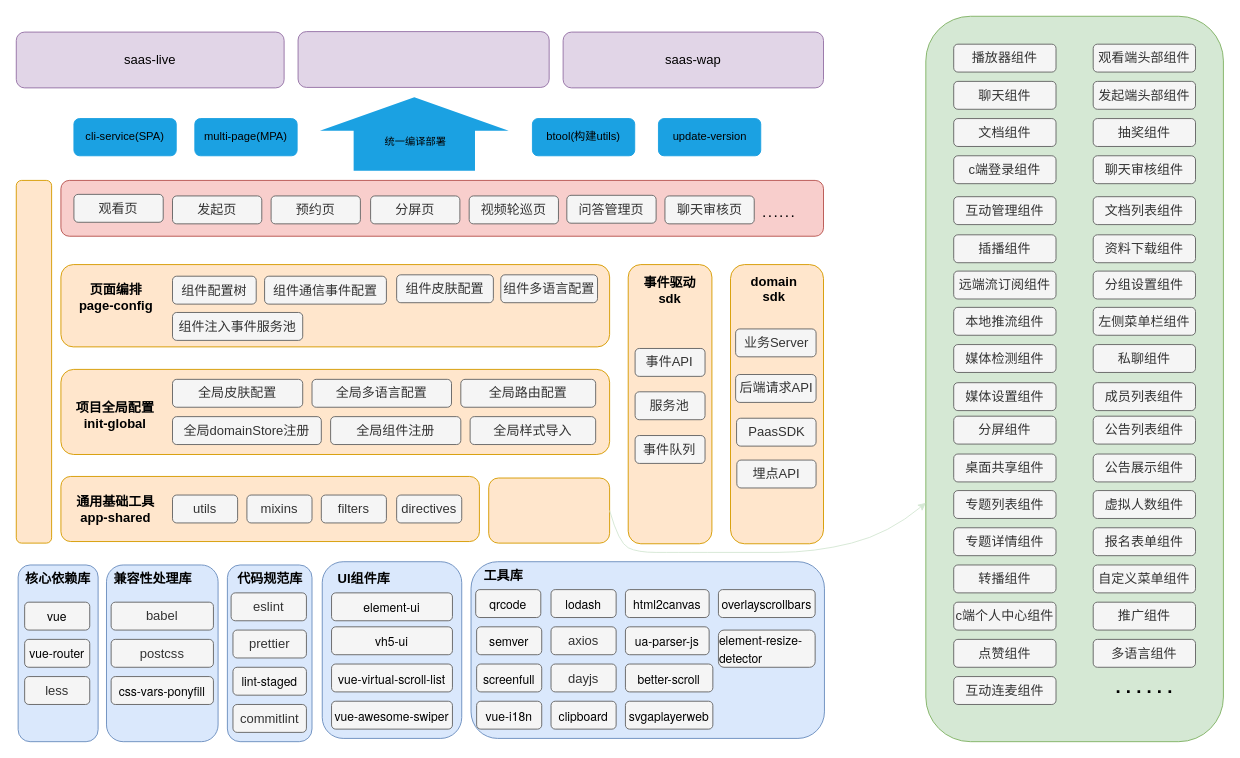
The diagram is 1240 pixels wide and 758 high, and some of its shapes have lost their labels. The shapes that lost their labels are listed below. From the top down, each one's centre as x and y in pixels, then its label:
At point (423, 59): "saas-watch".
At point (33, 361): "单 项 目 结 构".
At point (549, 510): "业务组件库 packages".
